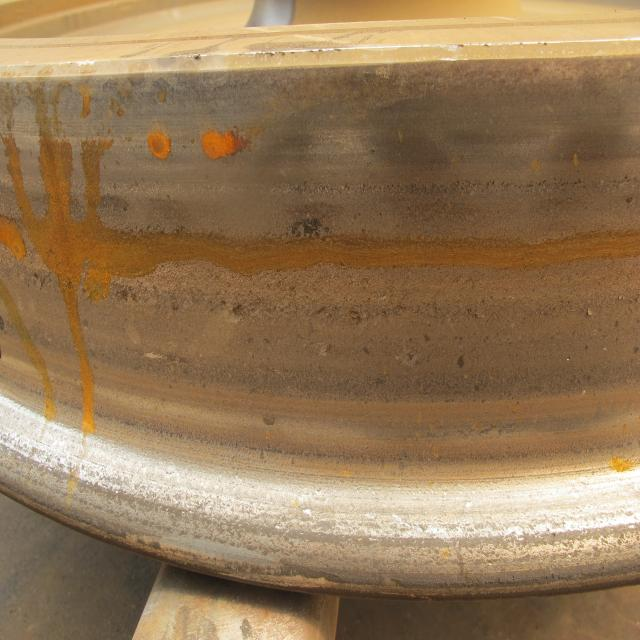Contact_Fatigue_Cracks: (313, 301, 399, 326), (219, 294, 280, 323), (414, 304, 484, 327), (125, 286, 192, 310), (289, 180, 363, 200)
